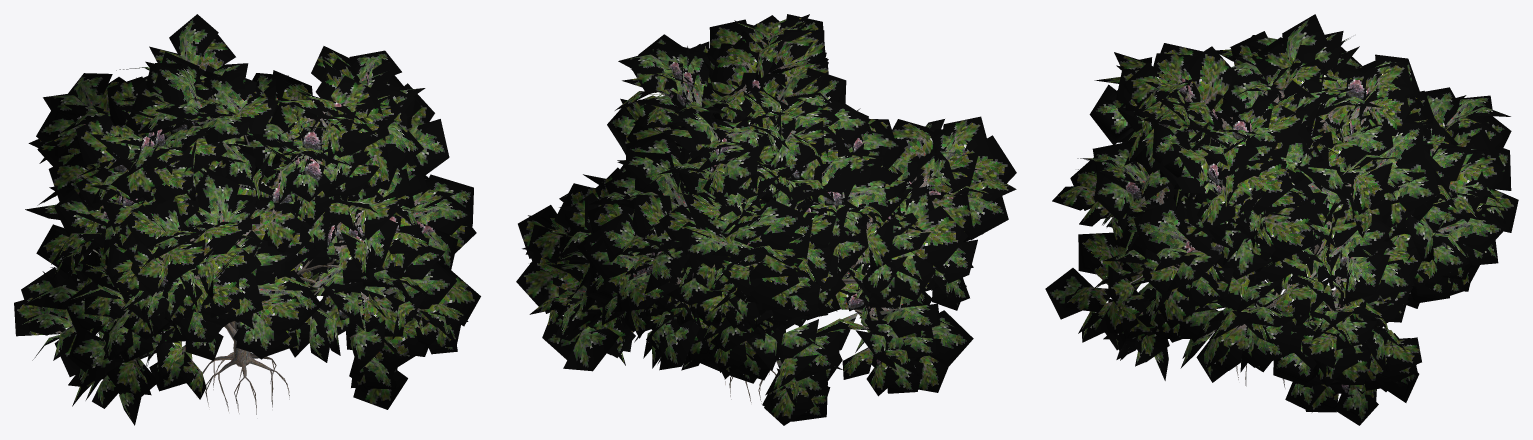
Rendered from Elderberry_Desktop_Fruit-transformed.glb.
The picture shows the model from 3 angles, left to right: view 1: azimuth 30°, elevation 25°; view 2: azimuth 150°, elevation 25°; view 3: azimuth 270°, elevation 25°; orthographic projection. The views are drawn at different scales.
Visible parts, largest first — view 1: Elderberry_Desktop_Fruit_LOD0; view 2: Elderberry_Desktop_Fruit_LOD0; view 3: Elderberry_Desktop_Fruit_LOD0.
Part boxes in pixels (x1,y1,x2,y2): Elderberry_Desktop_Fruit_LOD0: [14, 14, 480, 425]; Elderberry_Desktop_Fruit_LOD0: [516, 14, 1016, 425]; Elderberry_Desktop_Fruit_LOD0: [1045, 14, 1518, 425].
Size of the model in its own units: 4.33 by 3.35 by 4.3.
Materials: 2 (2 with a texture image).
